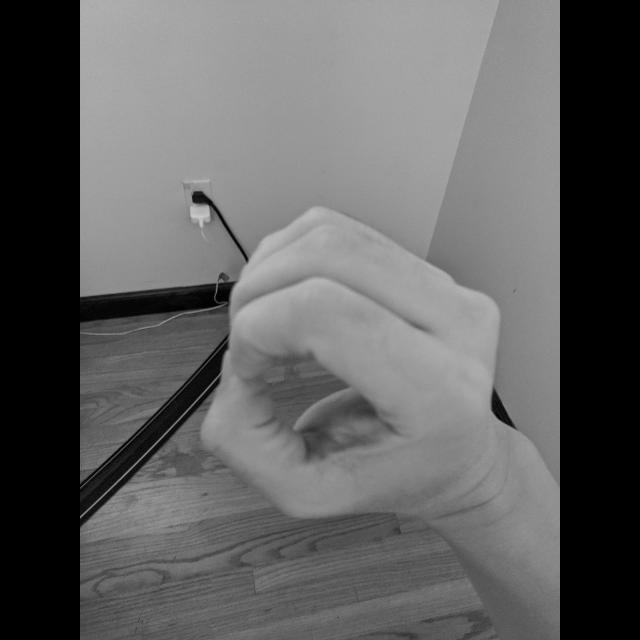O: (192, 201, 508, 533)
